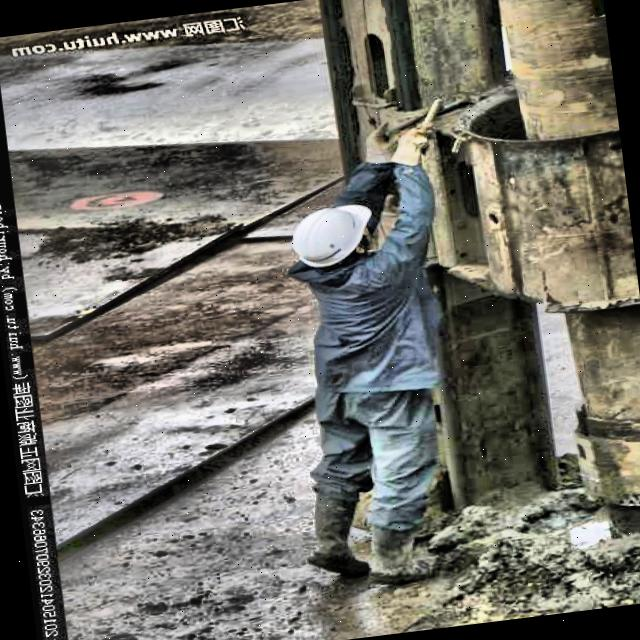helmet: (286, 201, 396, 284)
